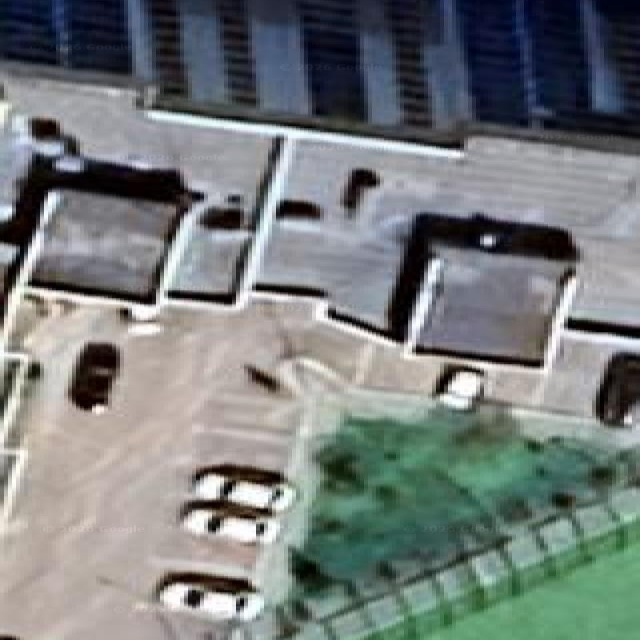car: (157, 574, 263, 621), (192, 464, 295, 512), (180, 501, 279, 543), (69, 343, 119, 412), (595, 353, 639, 426), (436, 367, 484, 410)
